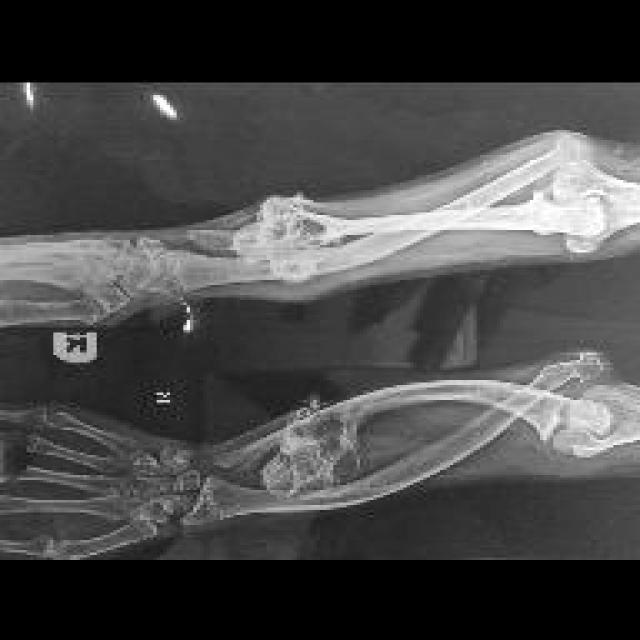bone-cancer: (233, 194, 347, 281), (262, 398, 362, 497)
